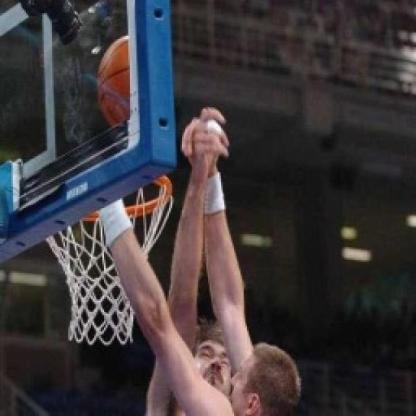basketball: (94, 34, 148, 126)
